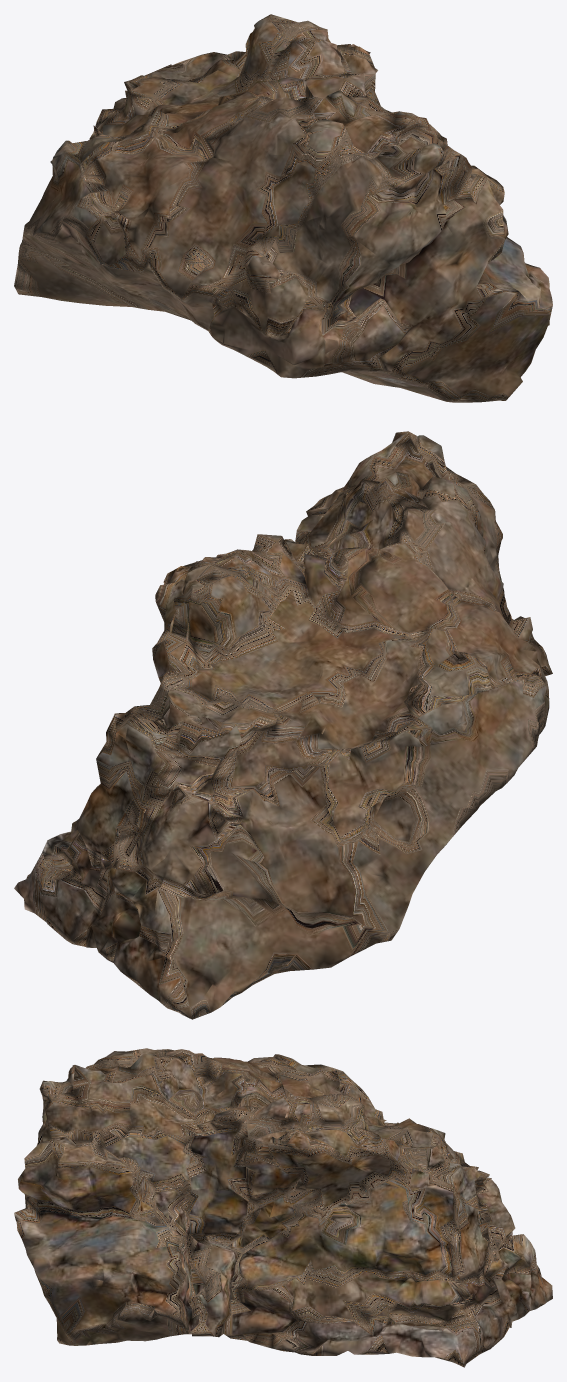
File: boulder_01.glb
The picture shows the model from 3 angles, top to bottom: view 1: azimuth 30°, elevation 25°; view 2: azimuth 150°, elevation 25°; view 3: azimuth 270°, elevation 25°; orthographic projection. The views are drawn at different scales.
Size of the model in its own units: 1.27 by 1 by 1.82.
Materials: 1 (1 with a texture image).
